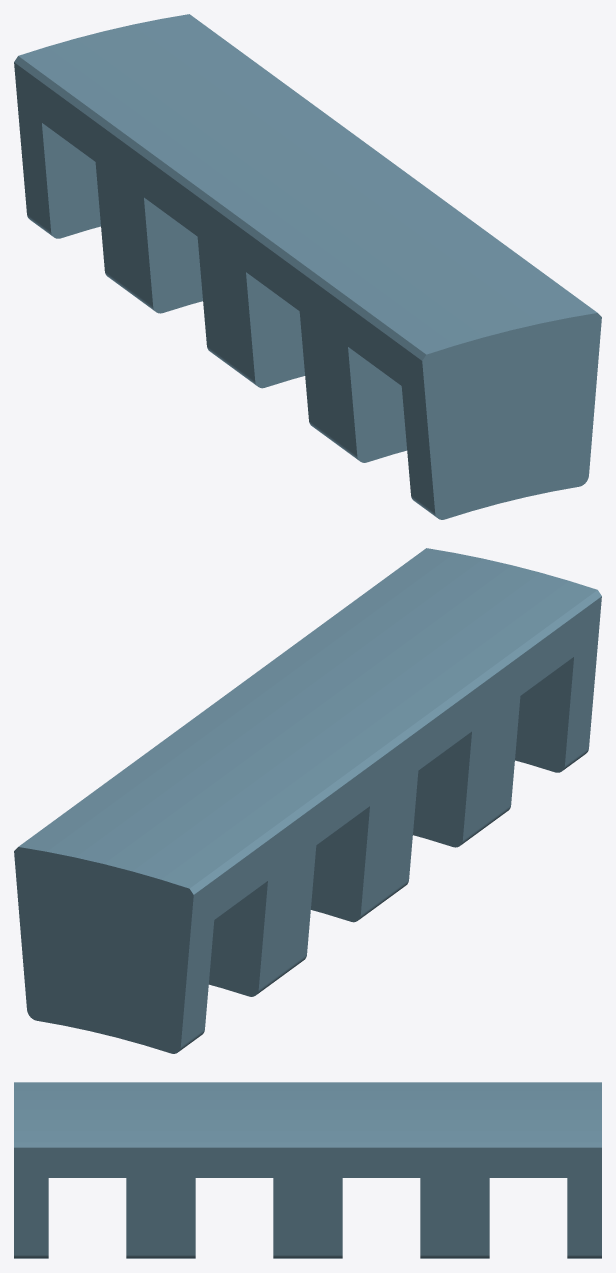
Rendered from comb-rail-section-2.glb.
3 renders of one model, top to bottom at view 1: azimuth 30°, elevation 25°; view 2: azimuth 150°, elevation 25°; view 3: azimuth 270°, elevation 25°, orthographic. The views are drawn at different scales.
Visible parts, largest first — view 1: comb-rail-middle; view 2: comb-rail-middle; view 3: comb-rail-middle.
Boxes of the visible parts, x1=… form: comb-rail-middle: x1=14, y1=14, x2=601, y2=519; comb-rail-middle: x1=14, y1=548, x2=601, y2=1053; comb-rail-middle: x1=14, y1=1082, x2=601, y2=1258.
Size of the model in its own units: 38.65 by 35.56 by 152.
